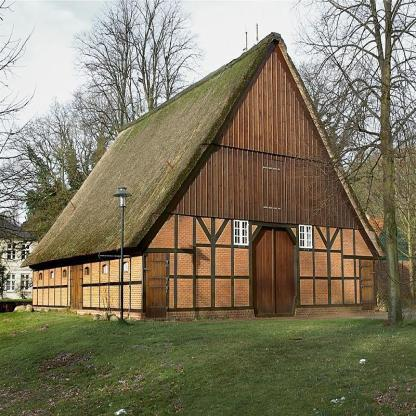Building Outline: (20, 31, 388, 320)
Dont: (112, 187, 133, 320)
Door: (249, 220, 301, 318), (146, 252, 167, 318), (361, 260, 374, 311)
Door Hole: (252, 226, 297, 313)
Facade: (142, 236, 376, 320)
Ground Floor: (142, 209, 376, 320)
Roof: (20, 31, 388, 267)
Window: (233, 220, 249, 246), (299, 225, 313, 249)
